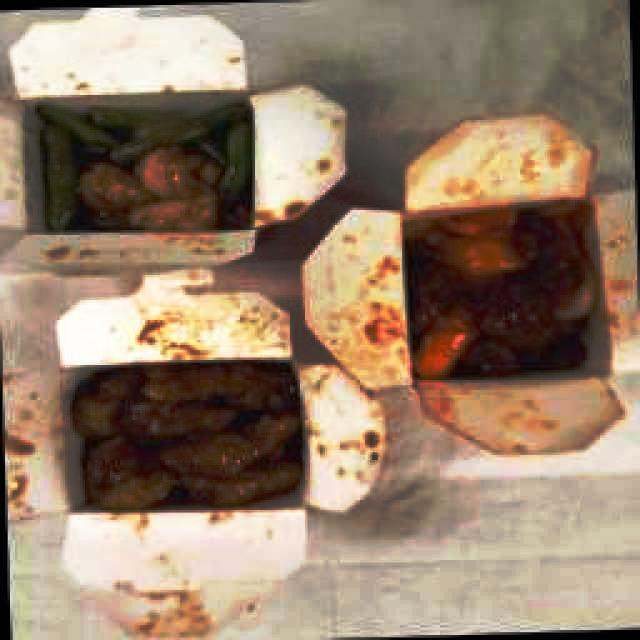Beijing Beef: (402, 197, 599, 381)
Kung Pao Chicken: (68, 359, 305, 511)
